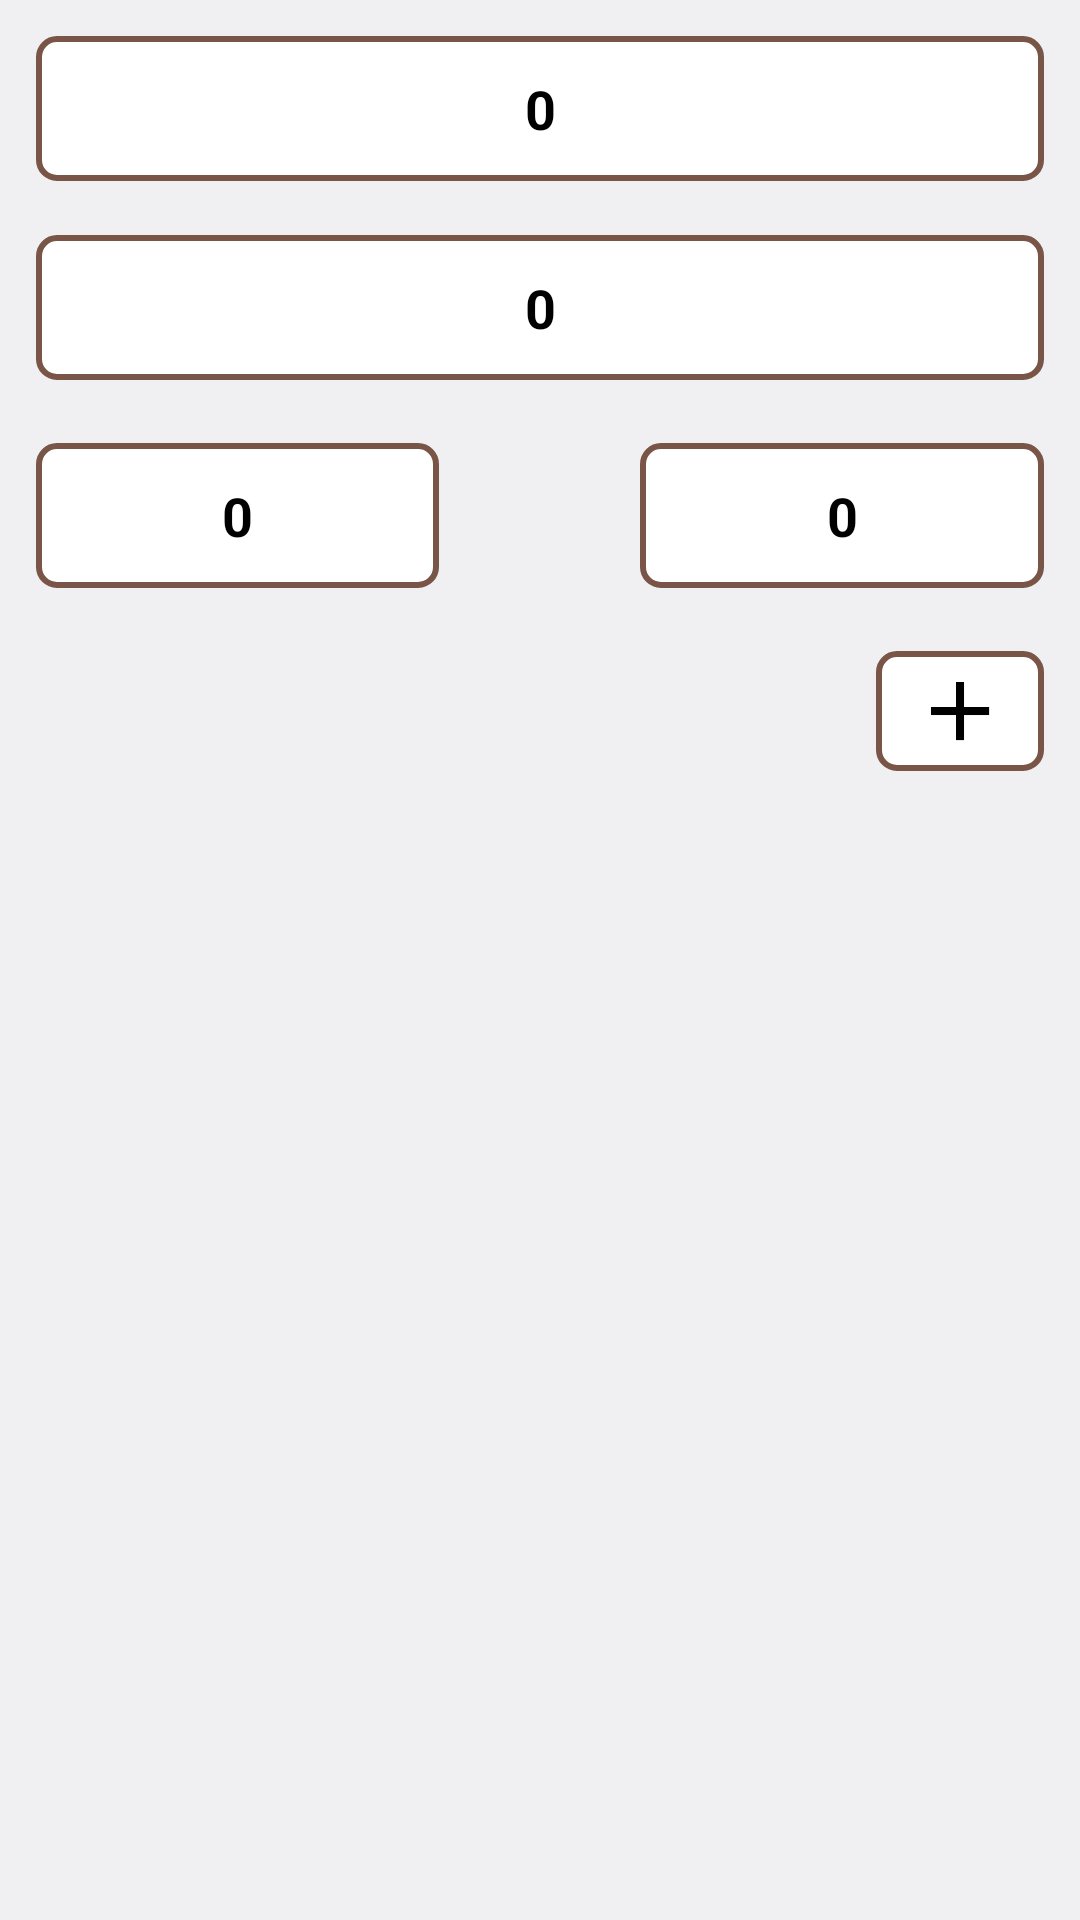

Screen size 1080×1920. Icon name, then its center in pixels as (x,y):
add: (960,711)
